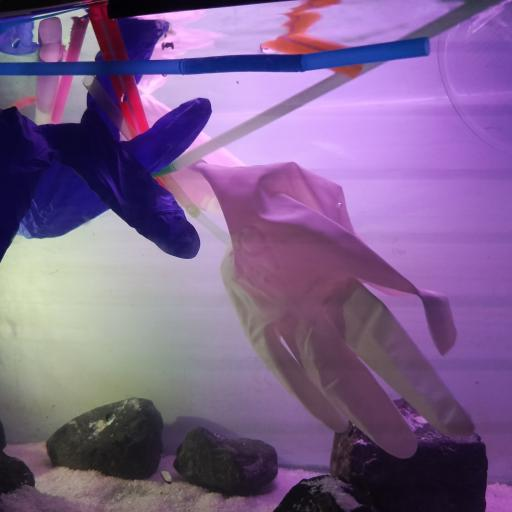glove: (118, 88, 476, 458), (0, 16, 213, 261)
plastic_cup: (437, 0, 512, 158)
plastic_straw: (152, 0, 501, 177), (83, 73, 230, 246), (0, 34, 429, 78), (91, 16, 150, 138), (261, 35, 363, 78), (51, 17, 90, 124), (107, 1, 287, 20), (36, 40, 64, 125), (6, 94, 36, 112)
